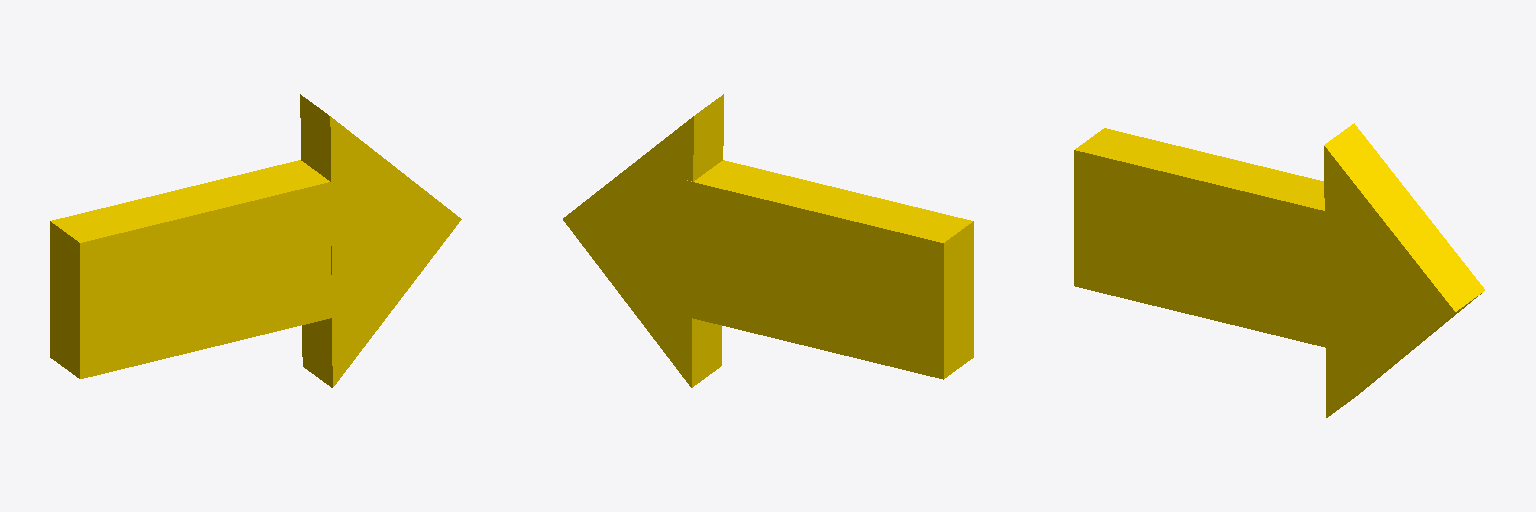
The model's file is yellarrow.obj.
3 views of the same model, side by side, from view 1: azimuth 30°, elevation 25°; view 2: azimuth 150°, elevation 25°; view 3: azimuth 330°, elevation 25° (orthographic).
Visible parts, largest first — view 1: mesh01; view 2: mesh01; view 3: mesh01.
Boxes of the visible parts, x1,y1,x2,y2 form: mesh01: [50, 94, 461, 387]; mesh01: [563, 94, 973, 387]; mesh01: [1074, 123, 1484, 417].
Bounding box in the file's own units: 1.46 × 1 × 0.2016.